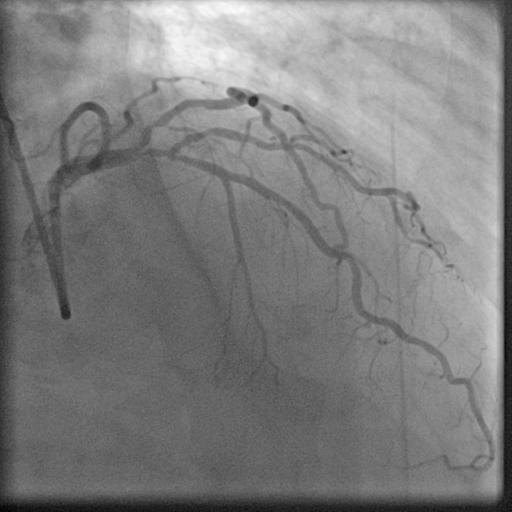Stenosis: (139, 115, 164, 141)
